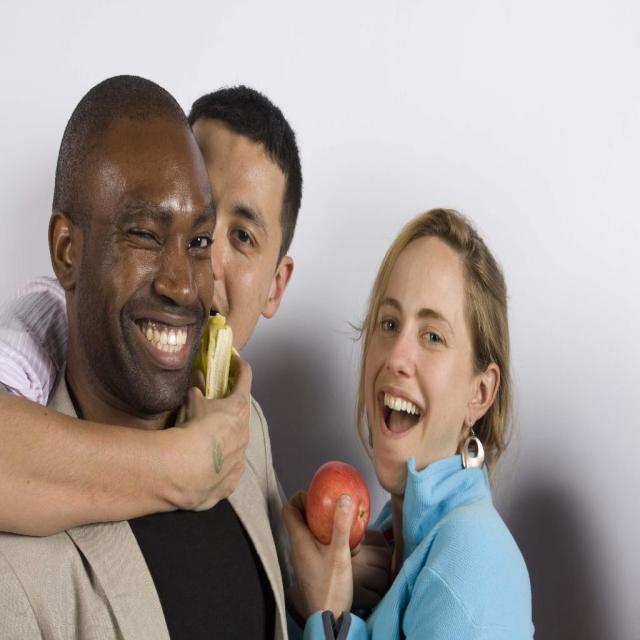Healty Apple: (303, 468, 379, 564)
